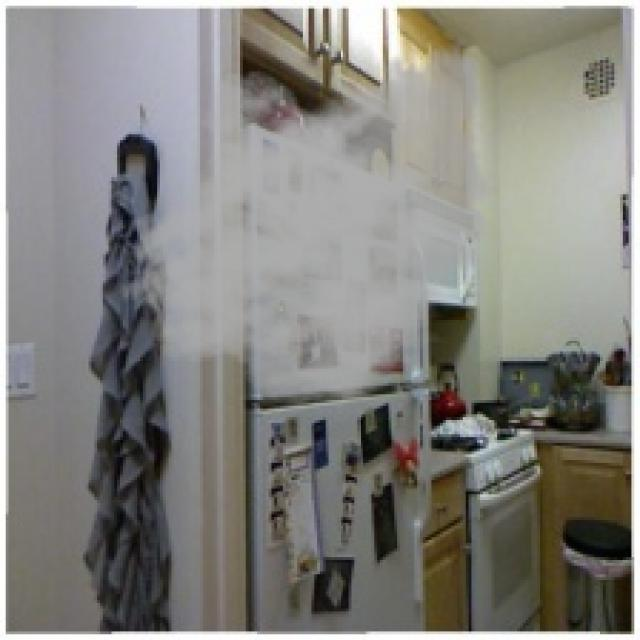smoke: (117, 31, 503, 408)
